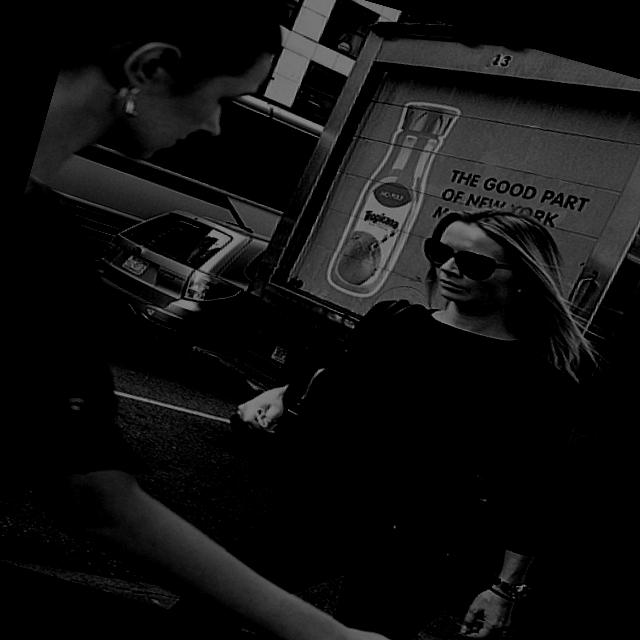Vehicle: (163, 0, 640, 553), (42, 49, 316, 298), (84, 193, 276, 370)
